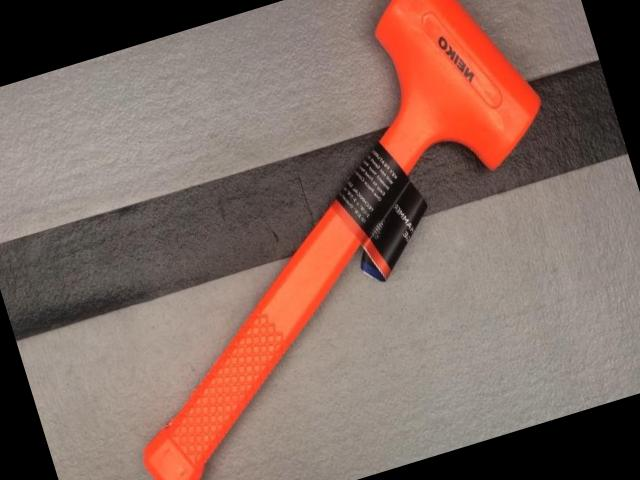hammer: (28, 0, 624, 480)
